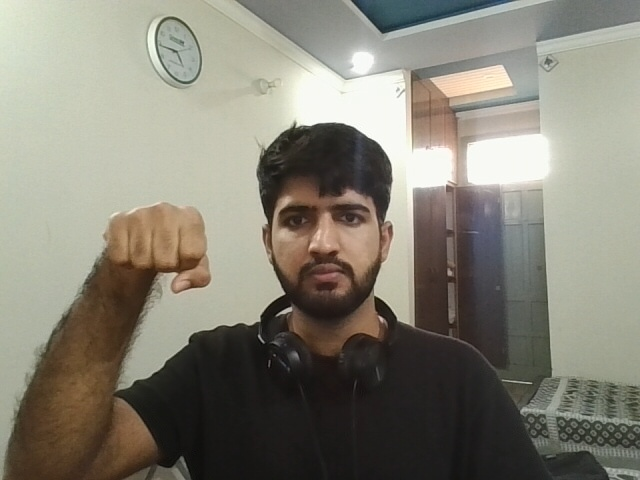Yes: (82, 183, 240, 311)
